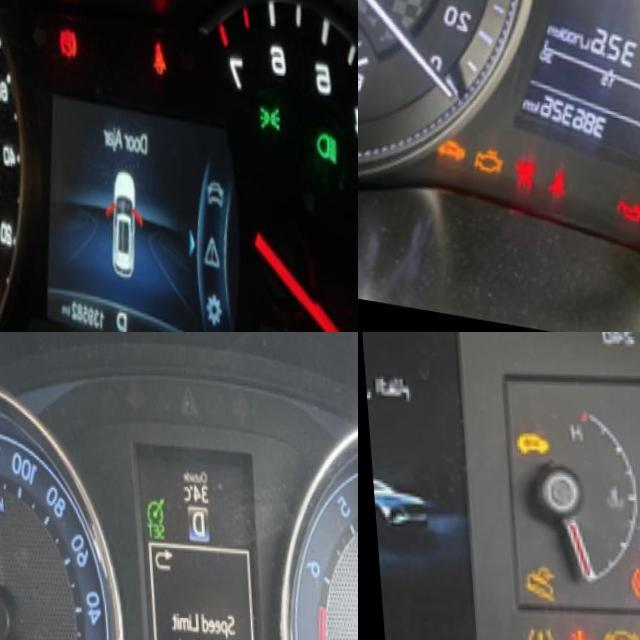Low beam: (309, 123, 338, 168)
Seat Belt: (555, 625, 589, 640)
security: (421, 132, 464, 166)
